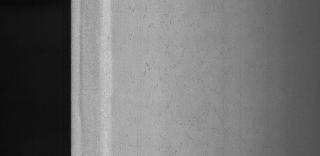silk spot: (131, 0, 223, 134)
